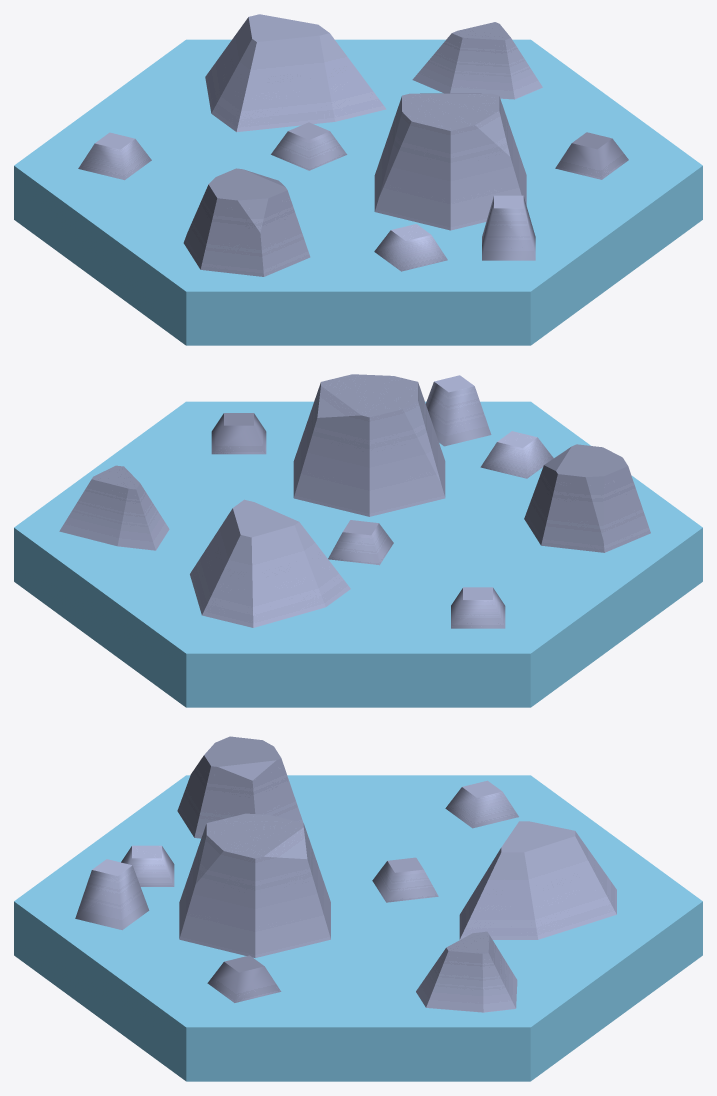
File: water-rocks.glb
3 views of the same model, one above another, from view 1: azimuth 30°, elevation 25°; view 2: azimuth 150°, elevation 25°; view 3: azimuth 270°, elevation 25° (orthographic).
Visible parts, largest first — view 1: water-rocks; view 2: water-rocks; view 3: water-rocks.
Part boxes in pixels (x1,y1,x2,y2): water-rocks: (14, 14, 702, 345); water-rocks: (14, 374, 702, 707); water-rocks: (14, 736, 702, 1081).
Size of the model in its own units: 10 by 2.59 by 11.55.
1 material, 1 textured.
